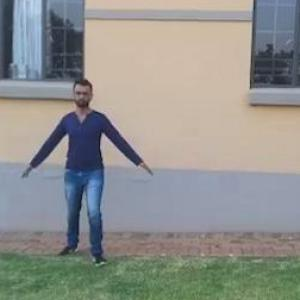land: (28, 80, 142, 252)
